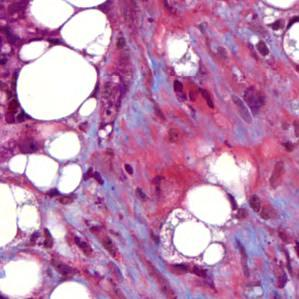steatosis: (10, 43, 101, 124)
